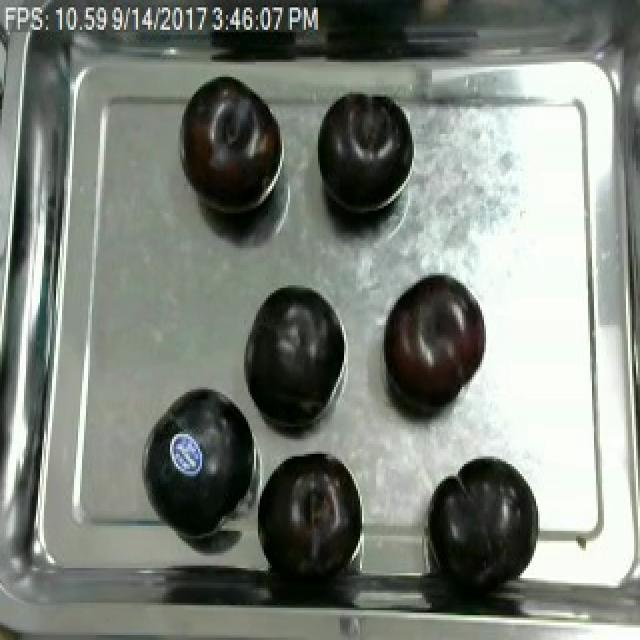Fruit: (138, 382, 266, 541), (170, 72, 286, 226), (234, 278, 346, 434), (424, 449, 544, 588), (378, 268, 490, 414), (256, 444, 368, 580), (312, 87, 418, 226)
